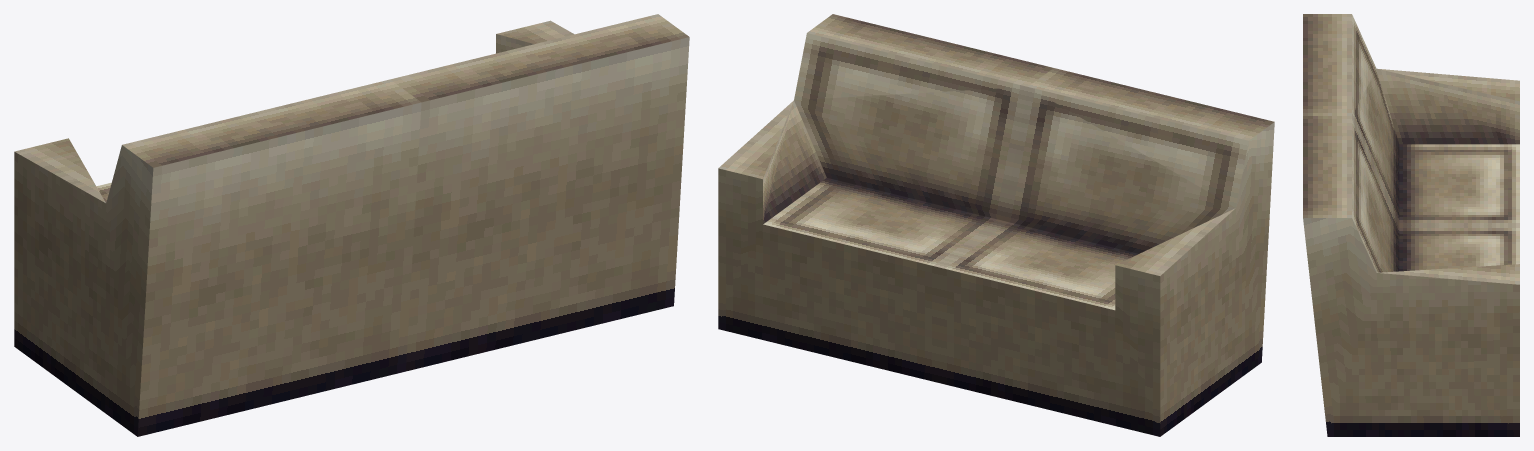
3 views of the same model, side by side, from view 1: azimuth 30°, elevation 25°; view 2: azimuth 150°, elevation 25°; view 3: azimuth 270°, elevation 25° (orthographic). The views are drawn at different scales.
Visible parts, largest first — view 1: prim105-sofa; view 2: prim105-sofa; view 3: prim105-sofa.
Boxes of the visible parts, x1,y1,x2,y2 form: prim105-sofa: (14,14,689,436); prim105-sofa: (718,14,1274,436); prim105-sofa: (1303,14,1519,436).
Size of the model in its own units: 256 by 128 by 115.
Materials: 1 (1 with a texture image).
